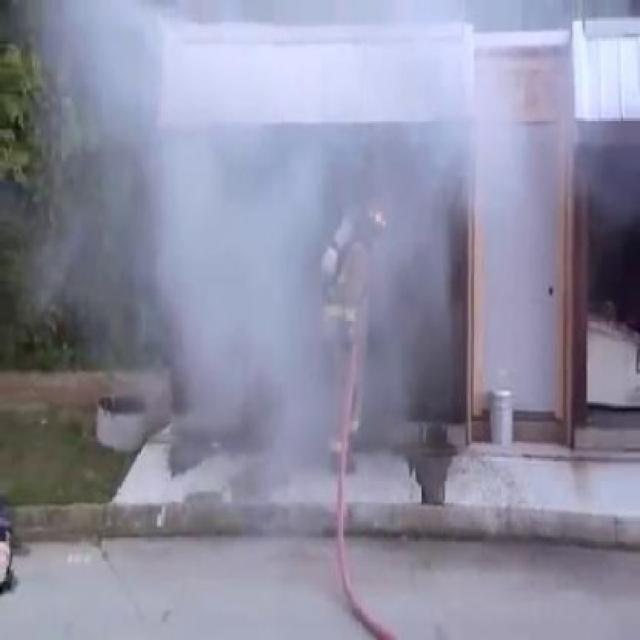smoke: (143, 142, 322, 453), (395, 122, 463, 407)
